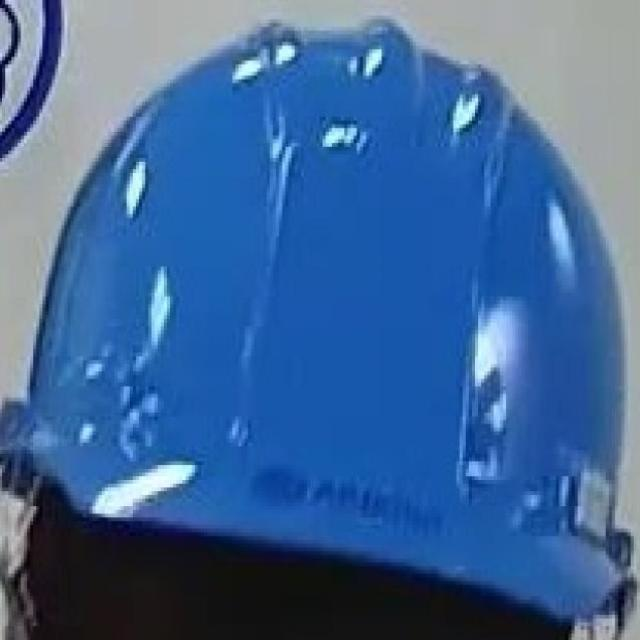helmet: (14, 16, 628, 625)
